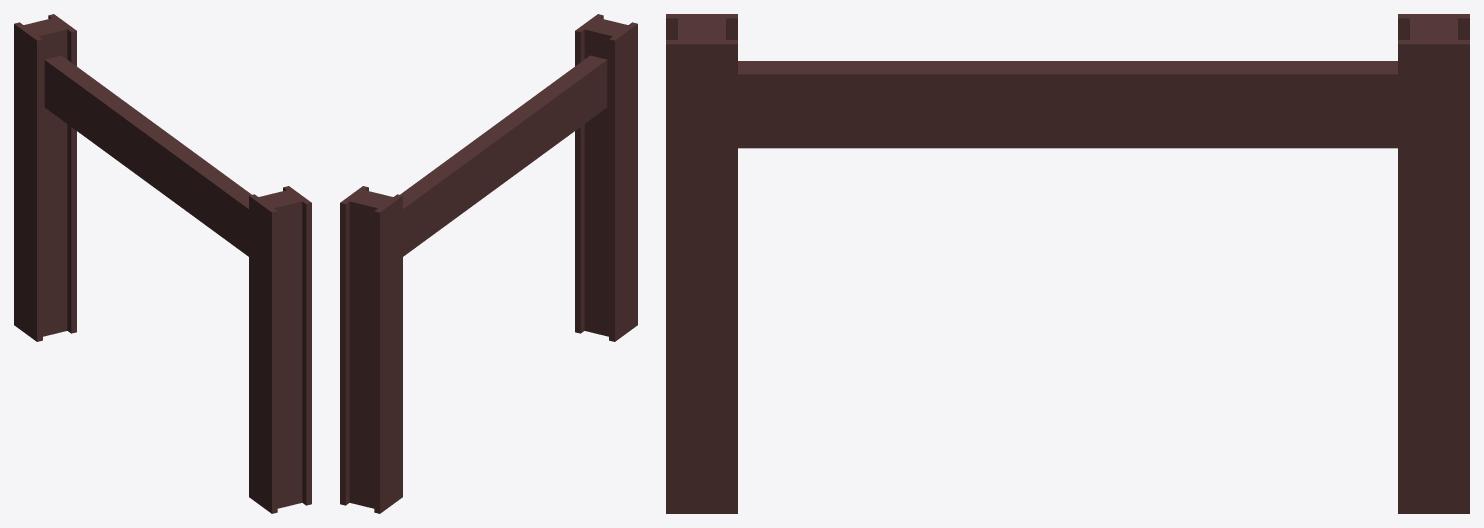
File: strick wall_1.fbx
3 renders of one model, left to right at view 1: azimuth 30°, elevation 25°; view 2: azimuth 150°, elevation 25°; view 3: azimuth 270°, elevation 25°, orthographic. The views are drawn at different scales.
Parts seen in each view (by area): view 1: pCube3, pCube1, pCube2; view 2: pCube1, pCube3, pCube2; view 3: pCube2, pCube1, pCube3.
Boxes of the visible parts, bbox=[...] form: pCube3: bbox=[249, 186, 311, 513]; pCube1: bbox=[14, 14, 76, 341]; pCube2: bbox=[44, 55, 251, 256]; pCube1: bbox=[340, 186, 402, 513]; pCube3: bbox=[575, 14, 637, 341]; pCube2: bbox=[400, 55, 607, 256]; pCube2: bbox=[738, 61, 1397, 148]; pCube1: bbox=[1398, 14, 1469, 513]; pCube3: bbox=[666, 14, 737, 513].
Bounding box in the file's own units: 1.39 × 10.04 × 15.58.
